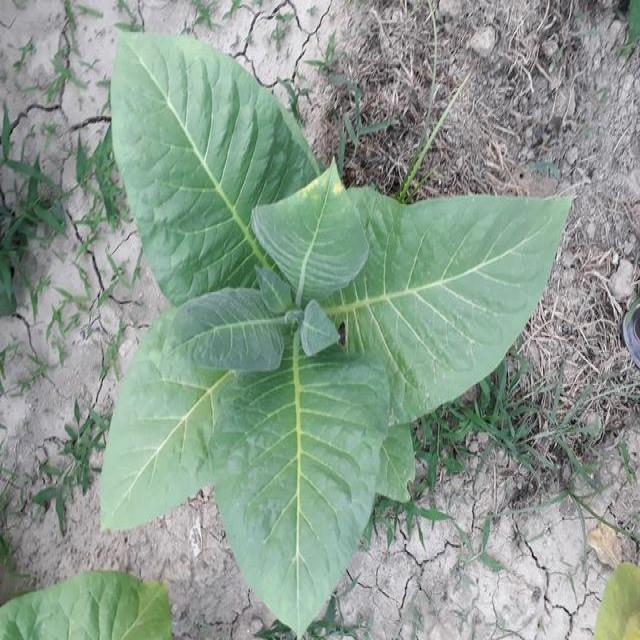crop: (101, 22, 574, 622), (1, 564, 181, 640), (597, 560, 640, 640)
